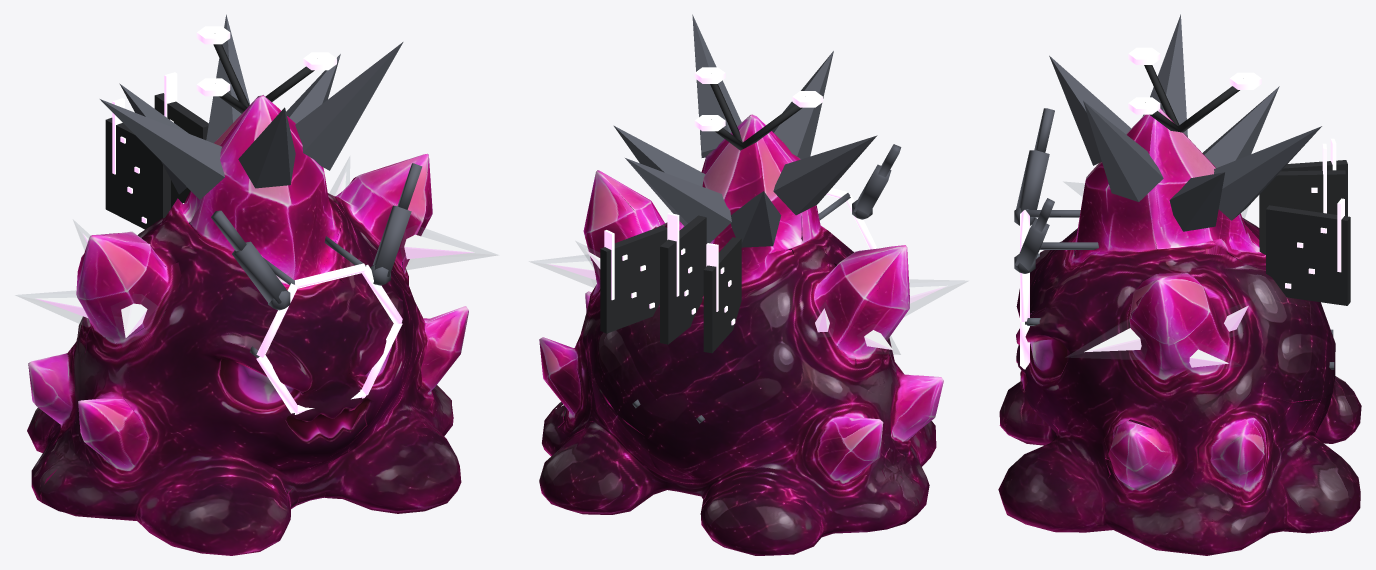
Rendered from Monster_NULL.glb.
3 renders of one model, left to right at view 1: azimuth 30°, elevation 25°; view 2: azimuth 150°, elevation 25°; view 3: azimuth 270°, elevation 25°, orthographic. The views are drawn at different scales.
Parts seen in each view (by area): view 1: Monster_NULL, Monster_NULL_Evolution; view 2: Monster_NULL, Monster_NULL_Evolution; view 3: Monster_NULL, Monster_NULL_Evolution.
Boxes of the visible parts, bbox=[...] form: Monster_NULL: bbox=[27, 95, 468, 555]; Monster_NULL_Evolution: bbox=[16, 14, 497, 414]; Monster_NULL: bbox=[539, 114, 943, 555]; Monster_NULL_Evolution: bbox=[529, 14, 967, 423]; Monster_NULL: bbox=[998, 108, 1361, 555]; Monster_NULL_Evolution: bbox=[1014, 14, 1350, 375].
Bounding box in the file's own units: 2.22 × 2.3 × 1.81.
Materials: 5 (1 with a texture image).
